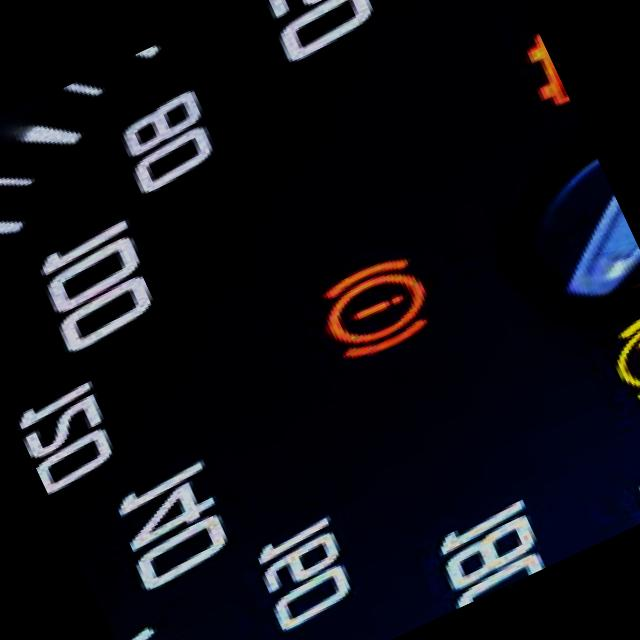kontrolka: (288, 236, 456, 392)
